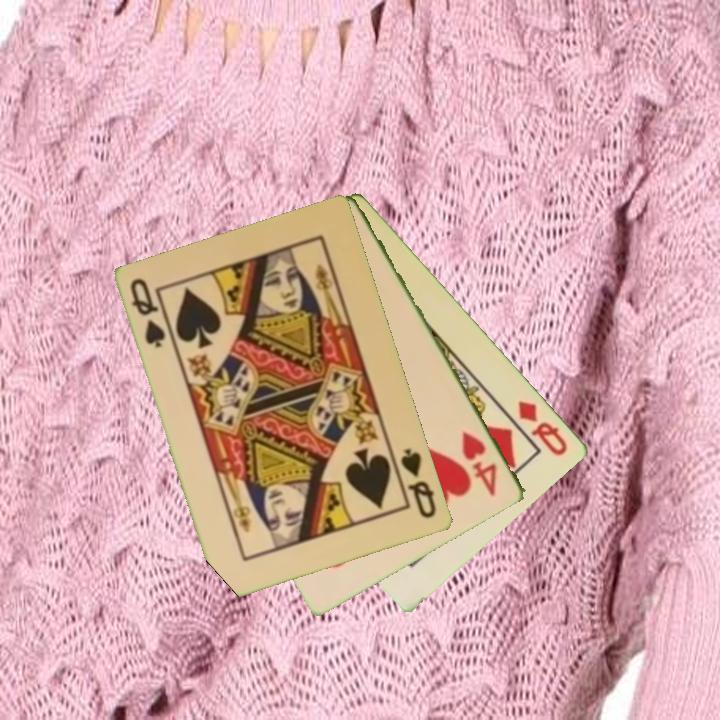4h: (458, 427, 501, 499)
Qd: (515, 397, 571, 459)
Qs: (397, 445, 440, 522), (127, 275, 169, 351)
